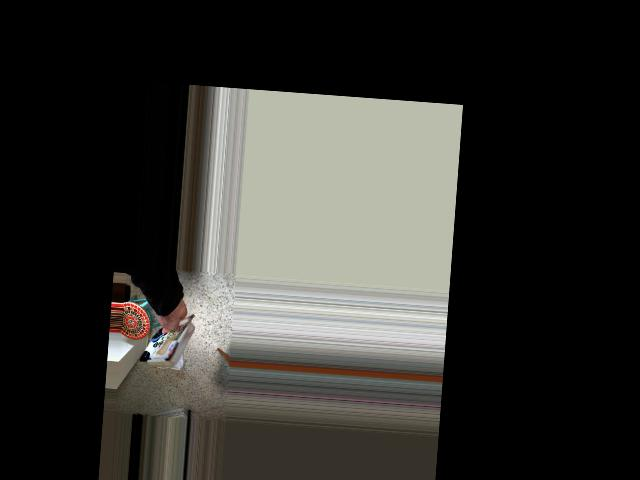cheese: (129, 297, 203, 372)
